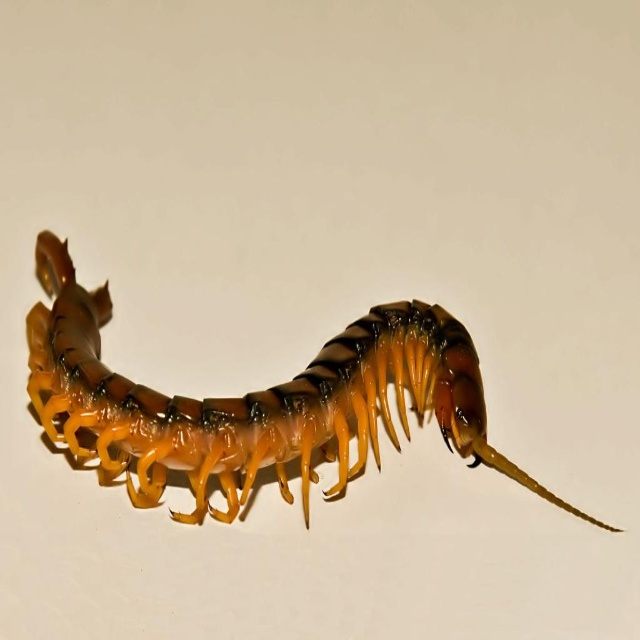Centipede: (25, 229, 624, 536)
